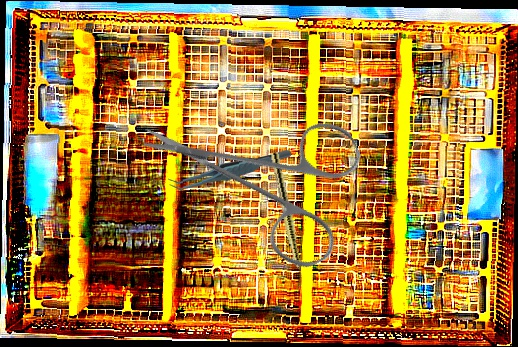Handpiece: (268, 151, 308, 290)
Iris Scissors: (138, 49, 396, 309)
Tissue Forceps: (167, 148, 293, 192)
